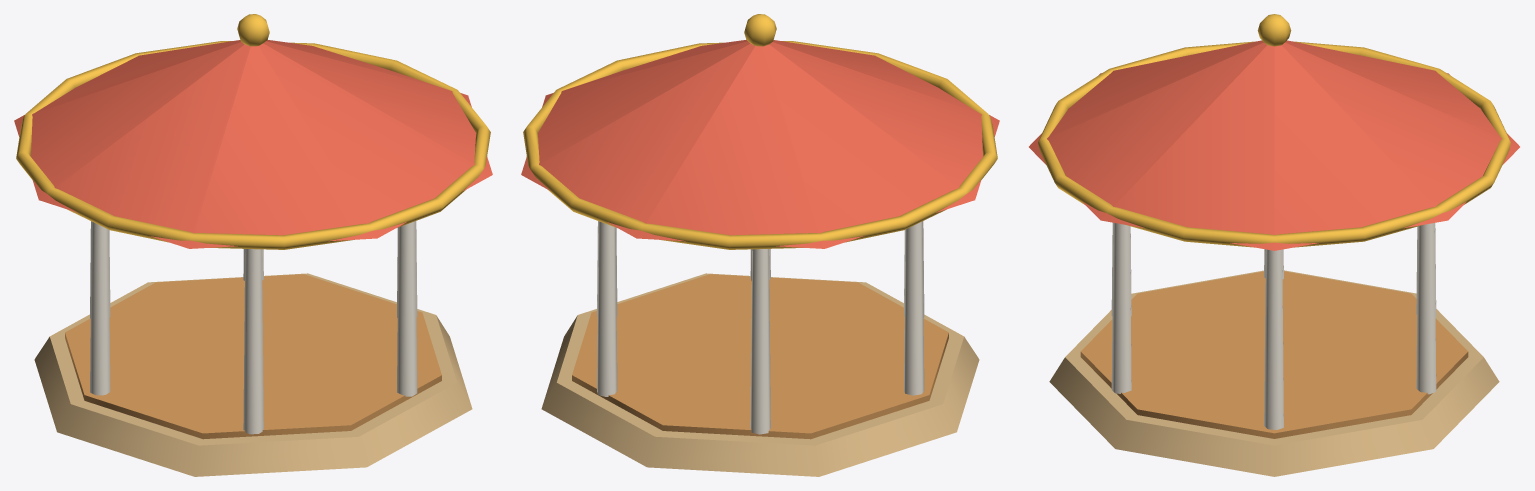
File: gazebo.glb
3 renders of one model, left to right at view 1: azimuth 30°, elevation 25°; view 2: azimuth 150°, elevation 25°; view 3: azimuth 270°, elevation 25°, orthographic.
Parts seen in each view (by area): view 1: Mesh_coral, Mesh_lightWood, Mesh_sandStone, Mesh_gold, Mesh_warmWhite; view 2: Mesh_coral, Mesh_lightWood, Mesh_sandStone, Mesh_gold, Mesh_warmWhite; view 3: Mesh_coral, Mesh_lightWood, Mesh_sandStone, Mesh_gold, Mesh_warmWhite.
Part boxes in pixels (<box>): Mesh_coral: <box>14,40,492,248</box>; Mesh_lightWood: <box>65,274,441,439</box>; Mesh_sandStone: <box>34,273,472,476</box>; Mesh_gold: <box>16,14,490,249</box>; Mesh_warmWhite: <box>90,221,417,434</box>; Mesh_coral: <box>521,40,999,248</box>; Mesh_lightWood: <box>572,274,948,439</box>; Mesh_sandStone: <box>541,273,979,476</box>; Mesh_gold: <box>523,14,997,249</box>; Mesh_warmWhite: <box>597,221,924,434</box>; Mesh_coral: <box>1029,40,1519,250</box>; Mesh_lightWood: <box>1080,271,1468,438</box>; Mesh_sandStone: <box>1049,270,1499,476</box>; Mesh_gold: <box>1038,14,1510,247</box>; Mesh_warmWhite: <box>1111,222,1436,429</box>.
Size of the model in its own units: 4.7 by 3.86 by 4.7.
